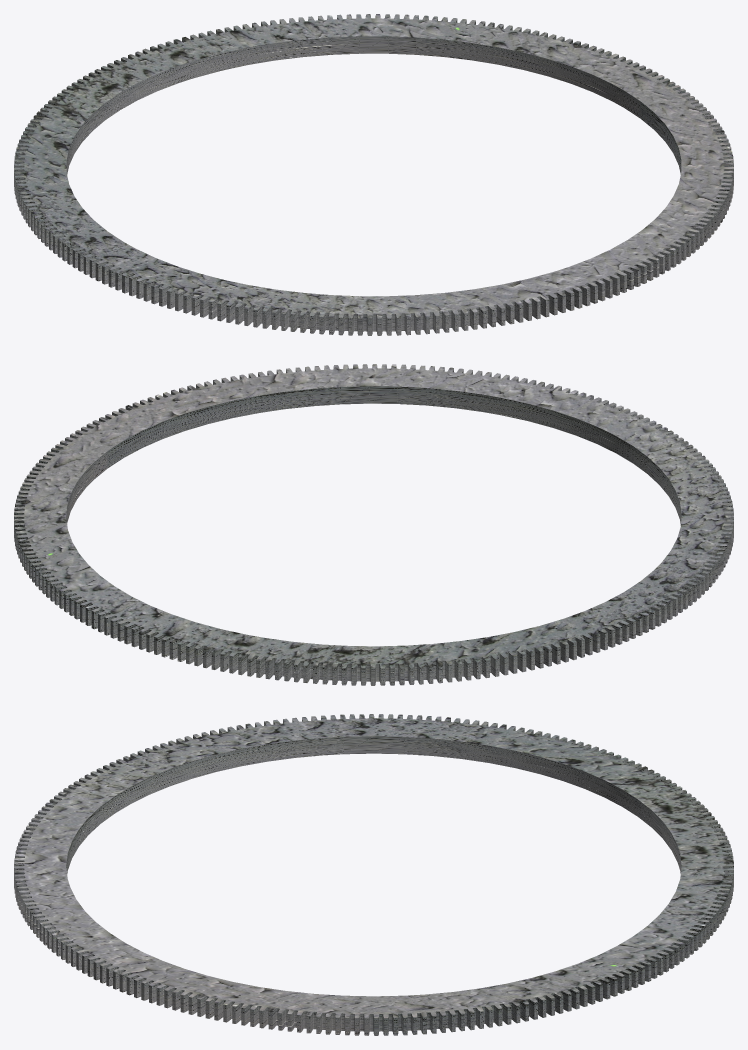
The picture shows the model from 3 angles, top to bottom: view 1: azimuth 30°, elevation 25°; view 2: azimuth 150°, elevation 25°; view 3: azimuth 270°, elevation 25°; orthographic projection.
Parts seen in each view (by area): view 1: 00_HZ_circle01OUT; view 2: 00_HZ_circle01OUT; view 3: 00_HZ_circle01OUT.
Part boxes in pixels (bbox=[...]): 00_HZ_circle01OUT: bbox=[14, 14, 733, 335]; 00_HZ_circle01OUT: bbox=[14, 364, 733, 685]; 00_HZ_circle01OUT: bbox=[14, 714, 733, 1035].
Bounding box in the file's own units: 1872 × 50 × 1872.
